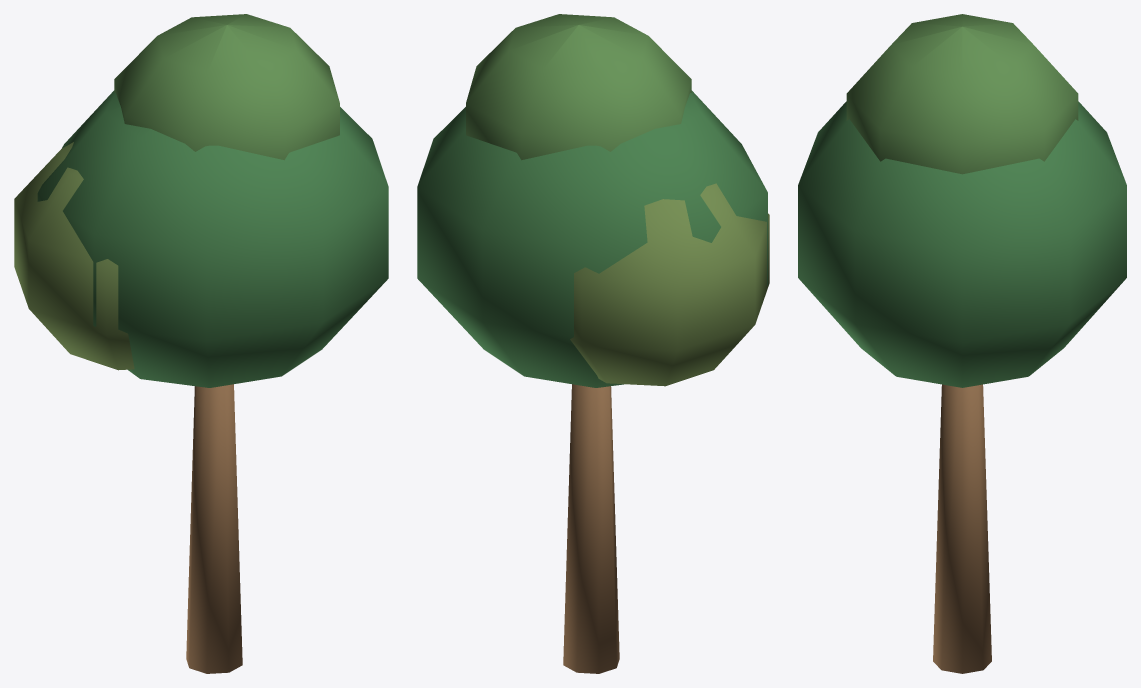
Rendered from cell_-1_0_full.gltf.
The picture shows the model from 3 angles, left to right: view 1: azimuth 30°, elevation 25°; view 2: azimuth 150°, elevation 25°; view 3: azimuth 270°, elevation 25°; orthographic projection.
Visible parts, largest first — view 1: ASSET_EKITI_SMALL_ORCHARD_TREE; view 2: ASSET_EKITI_SMALL_ORCHARD_TREE; view 3: ASSET_EKITI_SMALL_ORCHARD_TREE.
Boxes of the visible parts, x1,y1,x2,y2 form: ASSET_EKITI_SMALL_ORCHARD_TREE: [14, 14, 388, 673]; ASSET_EKITI_SMALL_ORCHARD_TREE: [417, 14, 769, 673]; ASSET_EKITI_SMALL_ORCHARD_TREE: [798, 14, 1126, 673].
Size of the model in its own units: 2.1 by 3.83 by 1.78.
